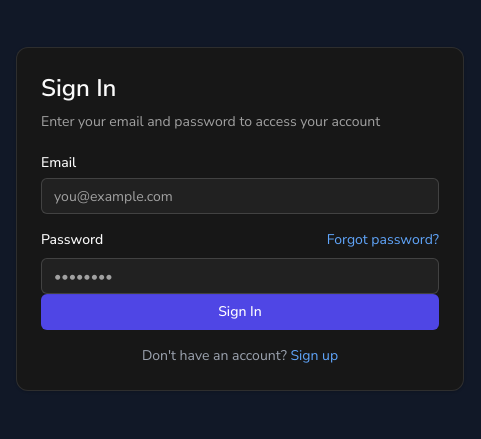
SignInPage error and 2FA handling (#198) › sends no verification link for any other refusal
This screenshot has width=481, height=439.
Type "test@example.com" into the field labelled "Email" at (240, 196), box [41, 178, 439, 214]
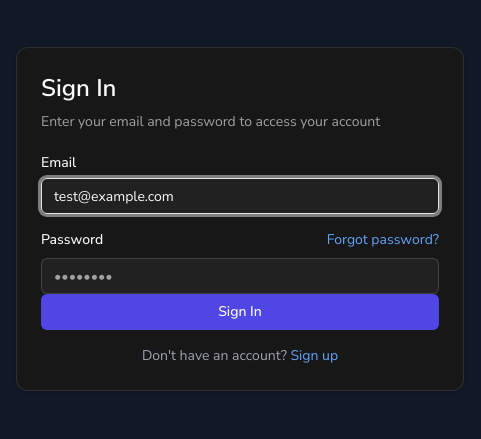
Type "pw1234" into the password field labelled "Password" at (240, 276), box [41, 258, 439, 294]
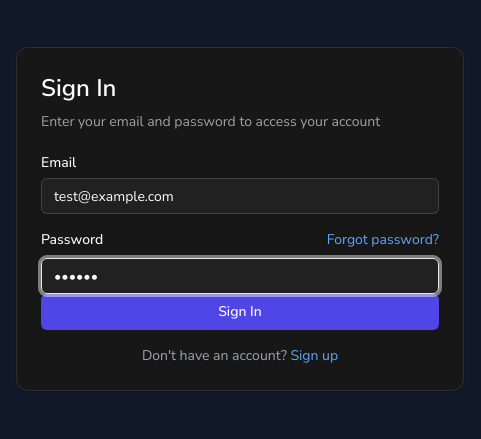
Click the button "Sign In" at (240, 312), box [41, 294, 439, 330]
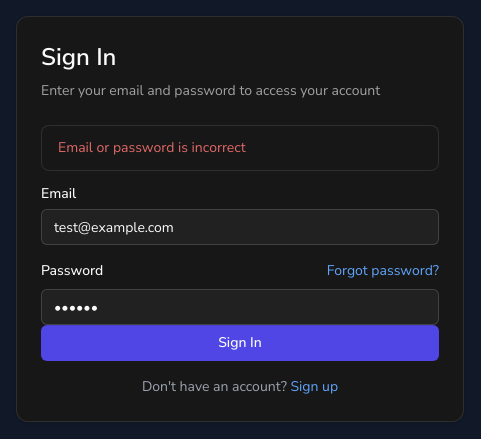
Result: the text "Email or password is incorrect" is shown at [58, 138, 246, 157]
